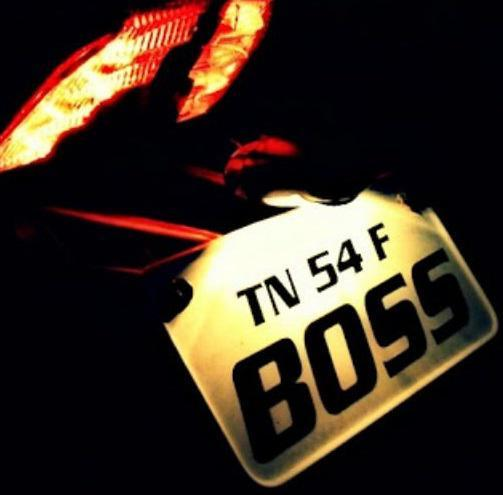licence-plate: (143, 211, 493, 473)
